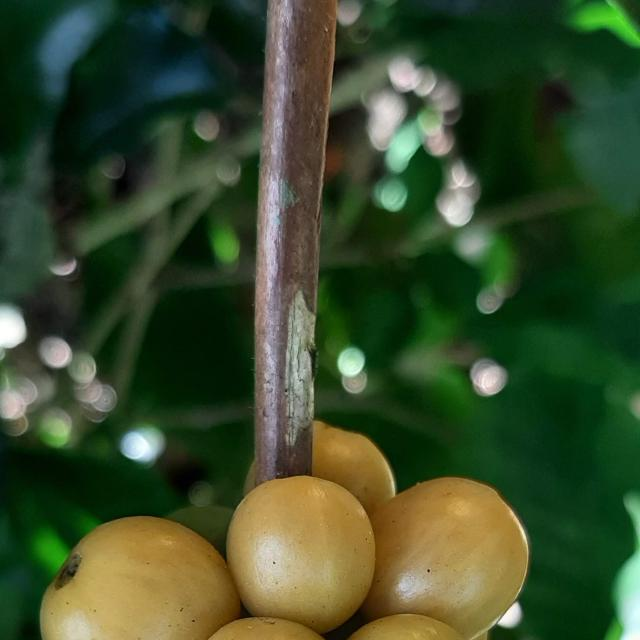Ripe: (361, 478, 530, 640), (39, 517, 241, 640), (227, 476, 375, 634), (313, 422, 396, 516), (348, 615, 465, 640), (209, 619, 324, 640)
